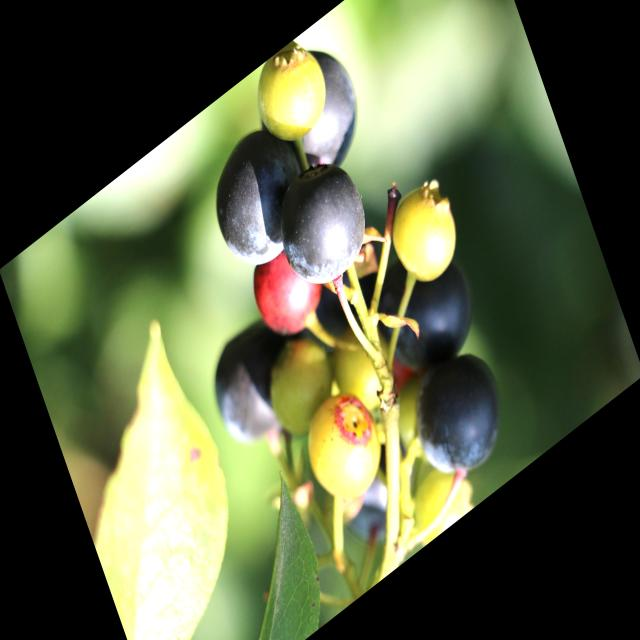blueberry: (194, 101, 327, 296), (362, 214, 493, 407), (247, 25, 377, 217), (398, 327, 520, 505), (198, 292, 320, 468), (262, 133, 382, 310), (331, 423, 426, 559)
blueberry-halfripe: (244, 232, 330, 360)
blueberry-unripe: (300, 375, 392, 515), (246, 29, 337, 161), (381, 164, 470, 297), (263, 326, 343, 446), (330, 321, 401, 431)
